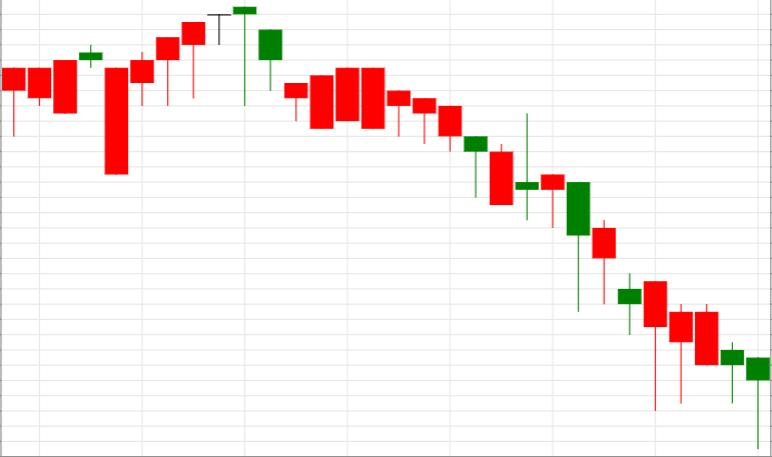hammer_rise: (464, 113, 667, 411)
